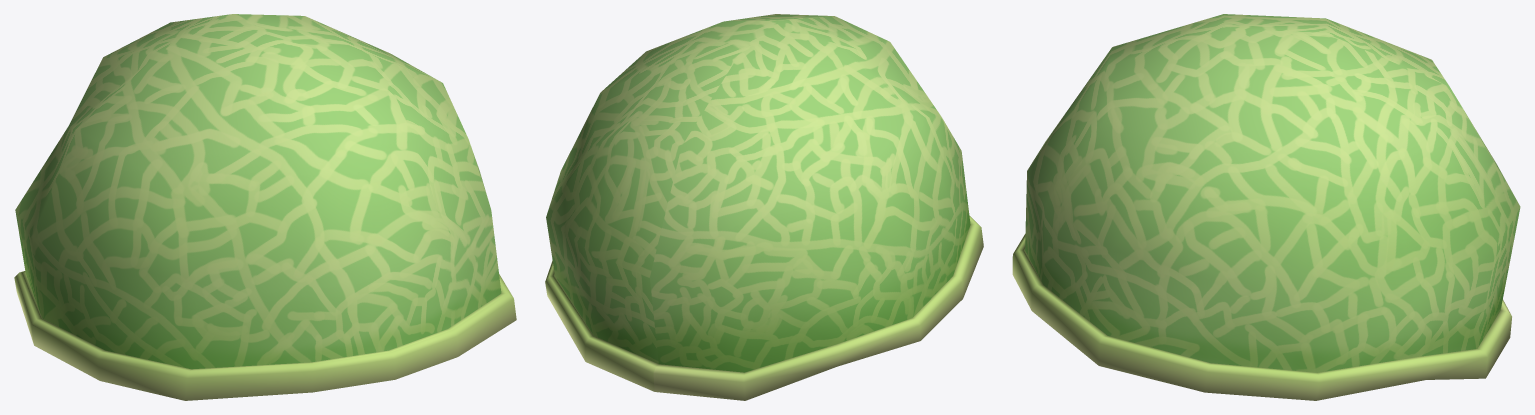
The model's file is P_helmet.fbx.
3 views of the same model, side by side, from view 1: azimuth 30°, elevation 25°; view 2: azimuth 150°, elevation 25°; view 3: azimuth 270°, elevation 25° (orthographic). The views are drawn at different scales.
Visible parts, largest first — view 1: Helmet; view 2: Helmet; view 3: Helmet.
Part boxes in pixels (x1=…): Helmet: x1=14, y1=14, x2=516, y2=400; Helmet: x1=545, y1=14, x2=983, y2=400; Helmet: x1=1012, y1=14, x2=1520, y2=400.
Bounding box in the file's own units: 46.23 × 34.12 × 50.73.
Materials: 1 (1 with a texture image).
